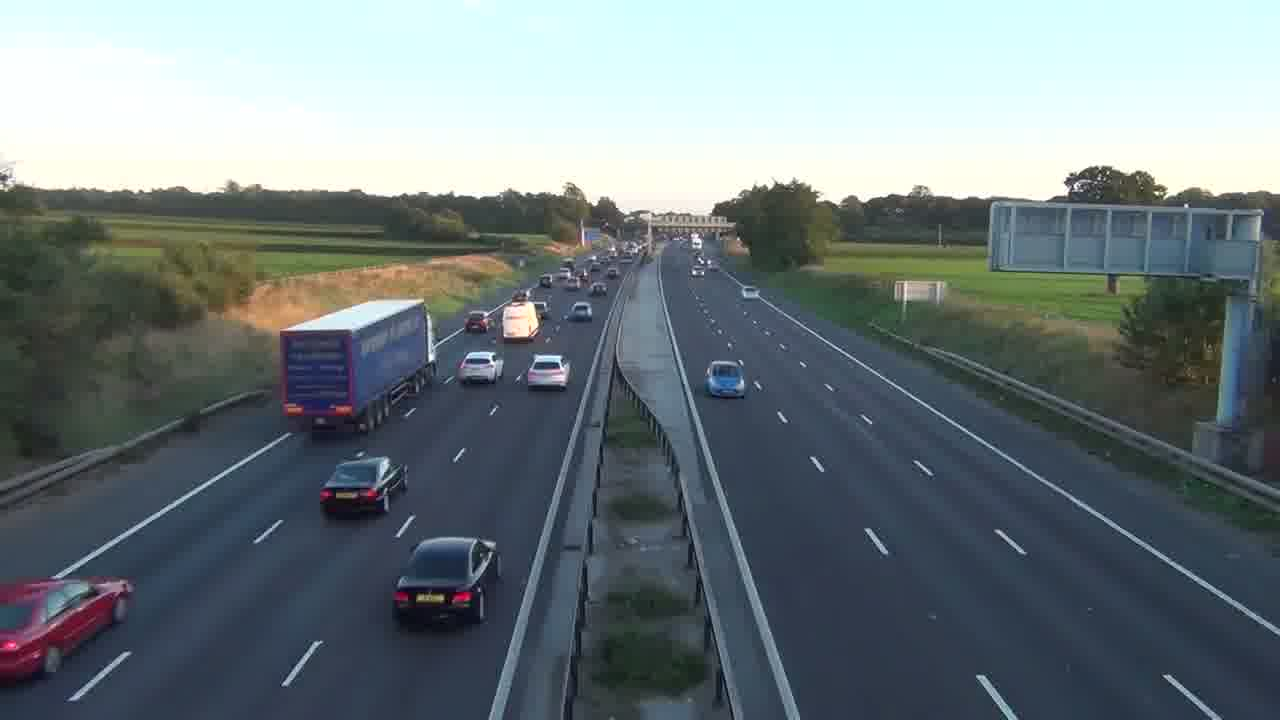bus: (280, 297, 433, 436)
car: (392, 535, 498, 628), (319, 456, 408, 517), (457, 349, 504, 386), (526, 353, 571, 390), (705, 359, 746, 398), (463, 310, 491, 333), (566, 301, 593, 323)
truck: (0, 574, 136, 684), (500, 302, 541, 341)
